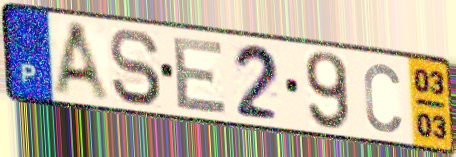2: (232, 40, 284, 126)
9: (302, 49, 350, 133)
A: (49, 20, 115, 106)
C: (361, 59, 404, 135)
E: (171, 35, 230, 116)
S: (107, 27, 164, 109)
